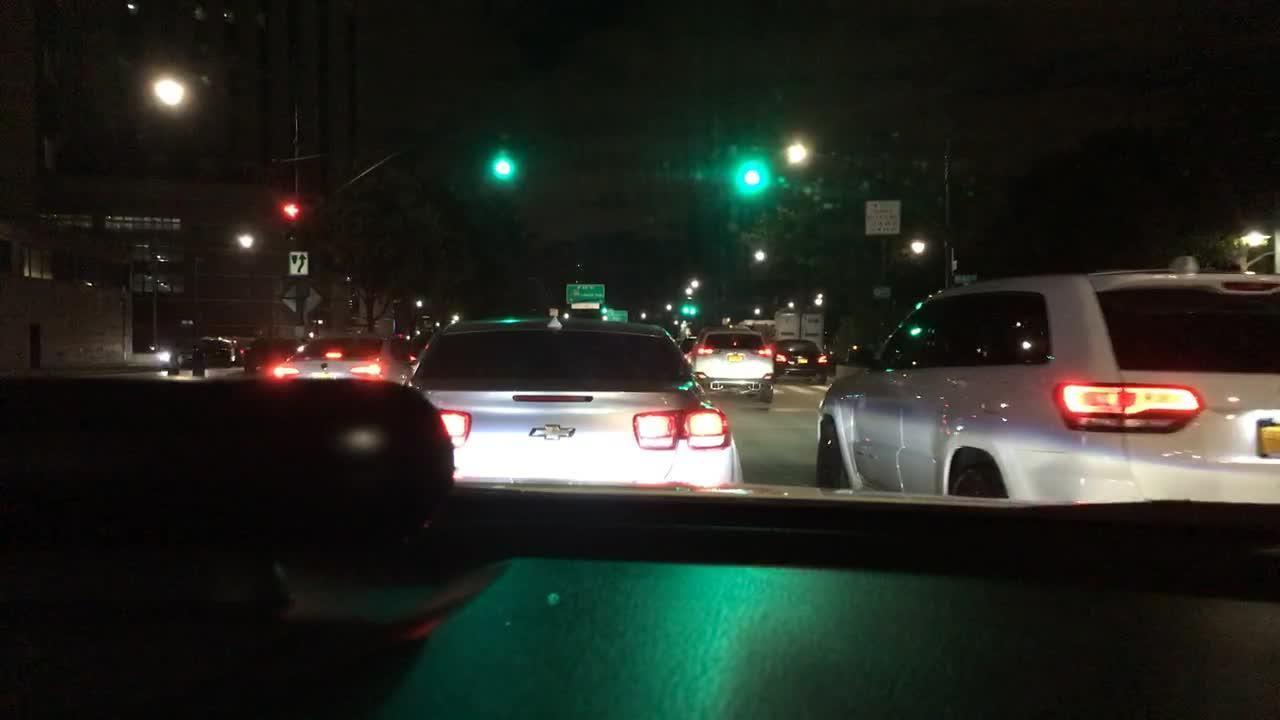chevrolet: (515, 418, 592, 446)
